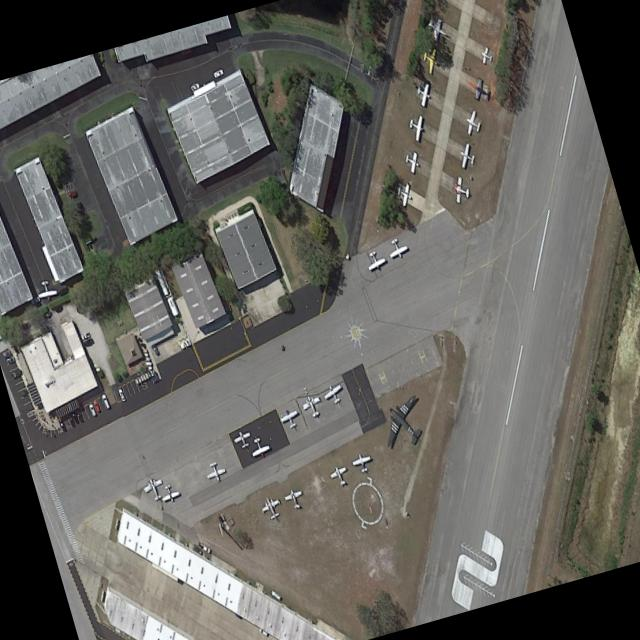plane: (377, 380, 432, 467), (424, 11, 453, 48), (139, 471, 167, 503), (257, 490, 284, 523), (298, 390, 325, 420), (462, 105, 483, 140), (246, 432, 272, 460), (34, 275, 59, 303), (203, 457, 228, 484), (281, 484, 306, 511), (320, 379, 345, 406), (384, 233, 409, 259), (471, 74, 491, 106), (363, 246, 387, 272), (406, 110, 425, 142), (456, 139, 475, 171), (278, 405, 302, 430), (349, 449, 374, 473), (328, 461, 351, 487), (421, 43, 439, 75), (158, 479, 181, 504), (452, 173, 469, 205), (413, 77, 431, 107), (231, 425, 253, 449), (402, 147, 421, 173), (396, 178, 412, 207), (479, 43, 493, 66)
small-vehicle: (197, 540, 209, 552), (100, 392, 109, 408), (117, 386, 126, 401), (212, 67, 223, 78), (269, 588, 280, 599), (79, 330, 91, 339), (82, 337, 94, 346), (1, 347, 11, 357), (151, 342, 159, 354), (88, 401, 95, 414), (258, 625, 268, 634), (11, 368, 20, 378), (30, 294, 39, 304), (75, 409, 83, 420), (72, 410, 79, 422), (73, 200, 82, 209), (66, 189, 76, 197), (67, 413, 74, 424), (92, 399, 99, 410), (190, 81, 199, 89), (5, 354, 14, 362)
